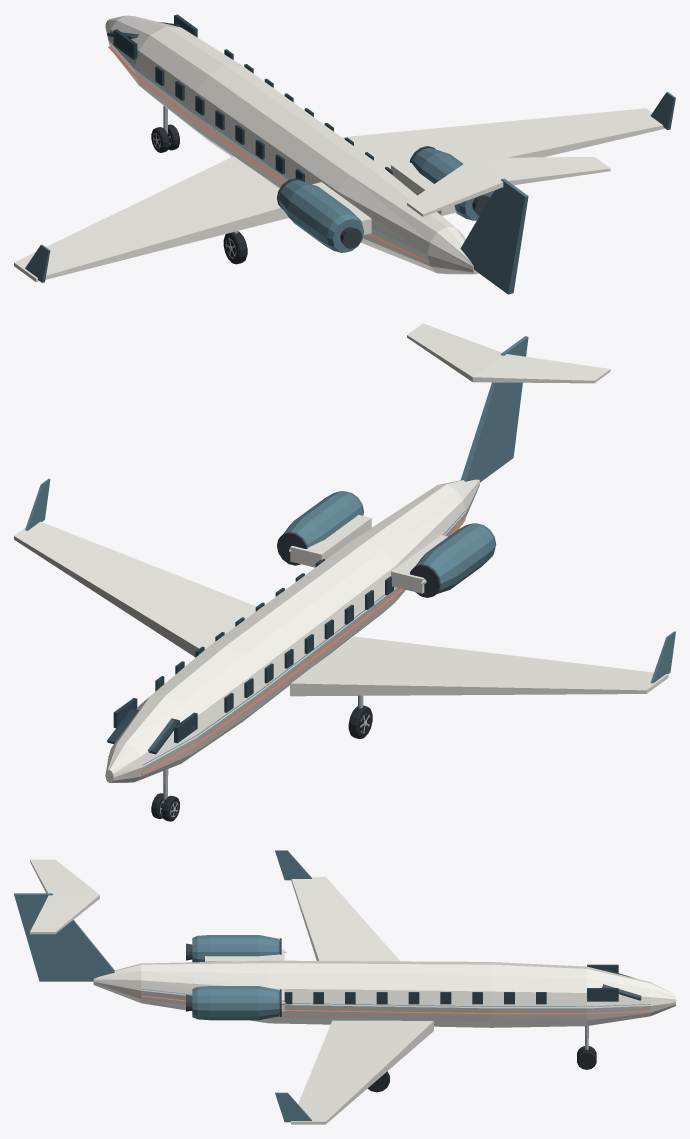
The model's file is AIR_06.obj.
3 renders of one model, top to bottom at view 1: azimuth 30°, elevation 25°; view 2: azimuth 150°, elevation 25°; view 3: azimuth 270°, elevation 25°, orthographic. The views are drawn at different scales.
Visible parts, largest first — view 1: fuselage, wings, stabilizers, tail_fin, engine_L, engine_R, windows, engine_pylons, winglets, cockpit_windows, gear_nose, stripe2 (+1 smaller); view 2: fuselage, wings, stabilizers, tail_fin, engine_L, engine_pylons, engine_R, windows, cockpit_windows, winglets, stripe2, gear_nose (+1 smaller); view 3: fuselage, wings, tail_fin, stabilizers, engine_R, engine_L, windows, winglets, cockpit_windows, stripe2, engine_pylons, gear_nose (+1 smaller).
Boxes of the visible parts, left/top/right/bottom form: fuselage: left=105, top=15, right=478, bottom=274; wings: left=14, top=108, right=664, bottom=282; stabilizers: left=407, top=157, right=610, bottom=216; tail_fin: left=460, top=178, right=528, bottom=294; engine_L: left=279, top=180, right=363, bottom=252; engine_R: left=412, top=147, right=493, bottom=220; windows: left=155, top=49, right=392, bottom=181; engine_pylons: left=312, top=160, right=456, bottom=234; winglets: left=25, top=92, right=675, bottom=282; cockpit_windows: left=107, top=14, right=197, bottom=59; gear_nose: left=151, top=105, right=179, bottom=152; stripe2: left=108, top=46, right=428, bottom=262; fuselage: left=105, top=479, right=479, bottom=782; wings: left=14, top=521, right=668, bottom=696; stabilizers: left=407, top=323, right=610, bottom=383; tail_fin: left=460, top=336, right=528, bottom=482; engine_L: left=416, top=523, right=496, bottom=594; engine_pylons: left=290, top=514, right=447, bottom=593; engine_R: left=284, top=491, right=363, bottom=547; windows: left=155, top=558, right=393, bottom=712; cockpit_windows: left=107, top=698, right=197, bottom=754; winglets: left=25, top=478, right=675, bottom=683; stripe2: left=141, top=519, right=465, bottom=774; gear_nose: left=151, top=769, right=179, bottom=821; fuselage: left=93, top=960, right=675, bottom=1027; wings: left=291, top=877, right=433, bottom=1124; tail_fin: left=14, top=893, right=114, bottom=981; stabilizers: left=30, top=859, right=99, bottom=934; engine_R: left=186, top=986, right=279, bottom=1020; engine_L: left=186, top=935, right=279, bottom=962; windows: left=284, top=992, right=546, bottom=1004; winglets: left=275, top=850, right=311, bottom=1122; cockpit_windows: left=587, top=964, right=641, bottom=1001; stripe2: left=141, top=995, right=650, bottom=1014; engine_pylons: left=205, top=949, right=284, bottom=1011; gear_nose: left=577, top=1026, right=596, bottom=1069.
Bounding box in the file's own units: 18.2 × 6 × 20.8.
